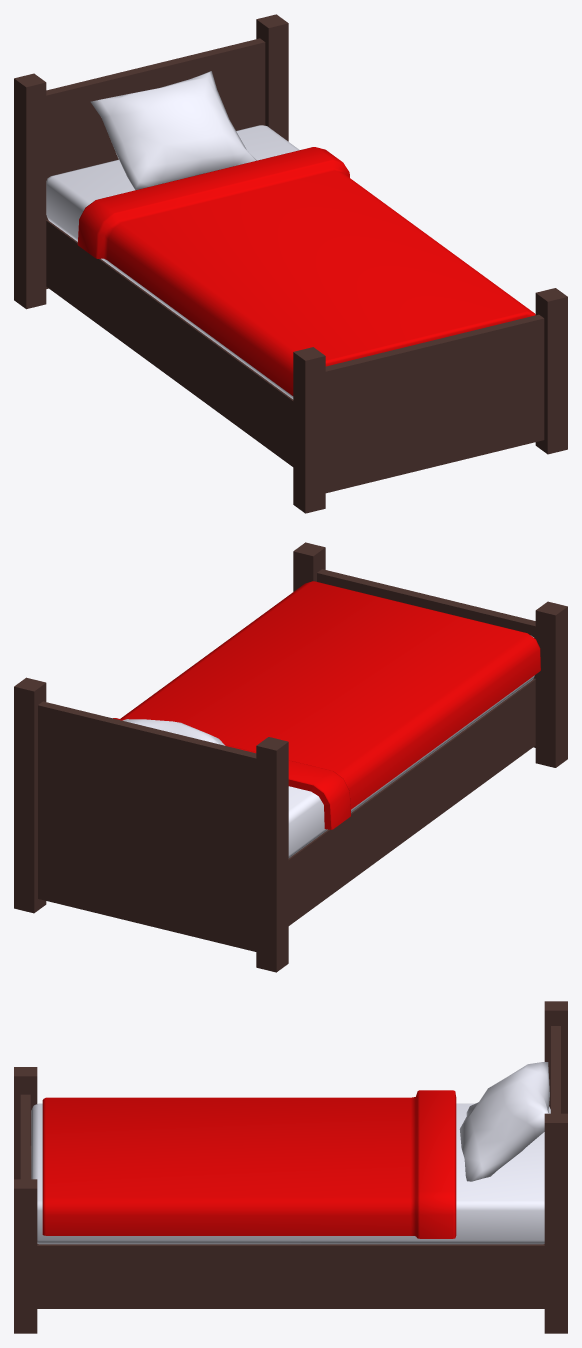
File: Prop_Bed_08.fbx
3 renders of one model, top to bottom at view 1: azimuth 30°, elevation 25°; view 2: azimuth 150°, elevation 25°; view 3: azimuth 270°, elevation 25°, orthographic. The views are drawn at different scales.
Parts seen in each view (by area): view 1: Prop_Bed_08; view 2: Prop_Bed_08; view 3: Prop_Bed_08.
Boxes of the visible parts, x1,y1,x2,y2 form: Prop_Bed_08: [14, 14, 567, 513]; Prop_Bed_08: [14, 542, 567, 972]; Prop_Bed_08: [14, 1001, 567, 1333].
Bounding box in the file's own units: 114 × 92.39 × 220.
